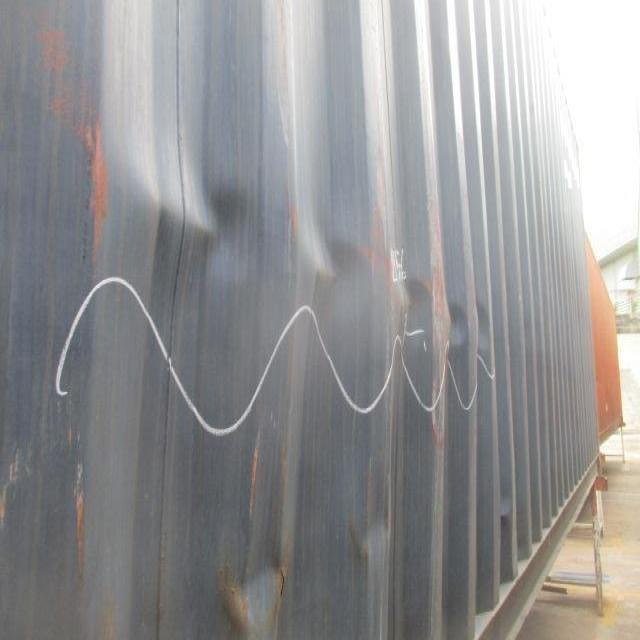dent: (86, 110, 514, 440)
